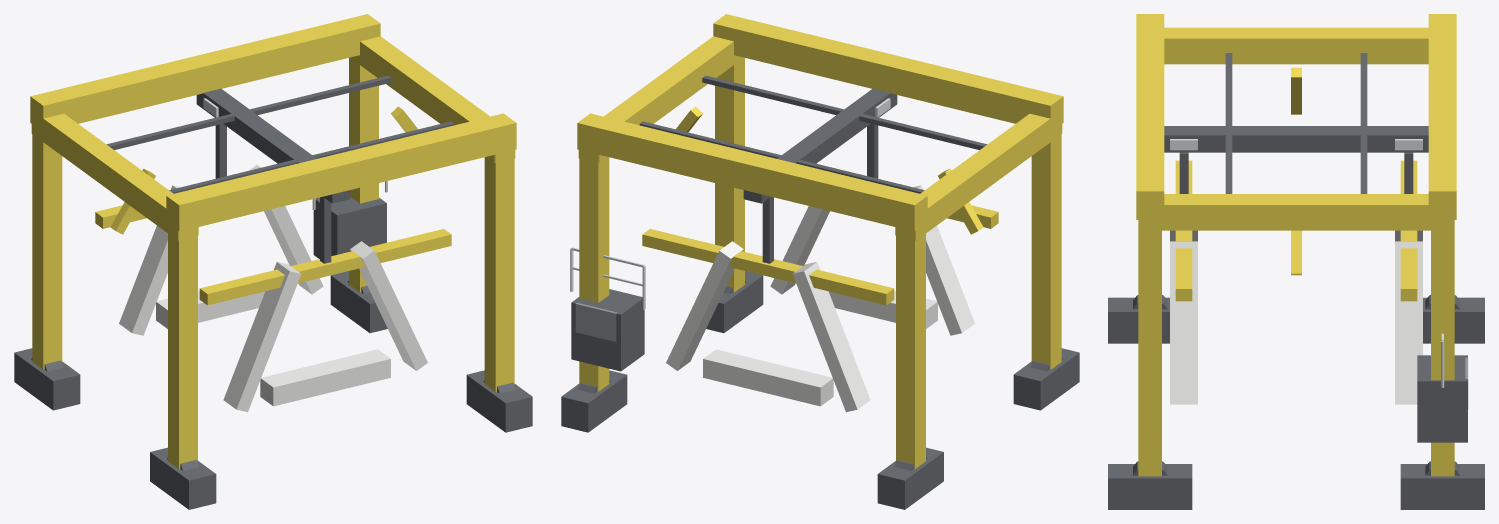
Rendered from PortHoist.glb.
3 renders of one model, left to right at view 1: azimuth 30°, elevation 25°; view 2: azimuth 150°, elevation 25°; view 3: azimuth 270°, elevation 25°, orthographic. The views are drawn at different scales.
Visible parts, largest first — view 1: marina-and-yacht-club-boat-hoist, hoist-cradleyellow_1, hoist-cradlegel_5, hoist-cradlegel_2, hoist-beamcharcoal, hoist-cradlegel_3, hoist-cradlegel, hoist-cradlegel_1, hoist-cradlegel_4, hoist-cradlecharcoal_1, hoist-cradlecharcoal; view 2: marina-and-yacht-club-boat-hoist, hoist-cradleyellow, hoist-cradlegel_4, hoist-cradlegel, hoist-beamcharcoal, hoist-cradlegel_1, hoist-cradlegel_2, hoist-cradlegel_3, hoist-cradlegel_5, hoist-cradlecharcoal, hoist-cradlecharcoal_1; view 3: marina-and-yacht-club-boat-hoist, hoist-beamcharcoal, hoist-cradlegel_3, hoist-cradlegel_1, hoist-cradleyellow, hoist-cradleyellow_1.
Boxes of the visible parts, box(x1,y1,x2,y2) form: marina-and-yacht-club-boat-hoist: box(14, 14, 532, 509); hoist-cradleyellow_1: box(199, 229, 451, 305); hoist-cradlegel_5: box(260, 349, 390, 406); hoist-cradlegel_2: box(223, 262, 301, 412); hoist-beamcharcoal: box(196, 88, 350, 203); hoist-cradlegel_3: box(350, 241, 427, 370); hoist-cradlegel: box(119, 185, 180, 335); hoist-cradlegel_1: box(249, 165, 323, 294); hoist-cradlegel_4: box(156, 291, 265, 328); hoist-cradlecharcoal_1: box(320, 196, 331, 263); hoist-cradlecharcoal: box(215, 123, 226, 178); marina-and-yacht-club-boat-hoist: box(561, 14, 1079, 509); hoist-cradleyellow: box(642, 229, 894, 305); hoist-cradlegel_4: box(703, 349, 833, 406); hoist-cradlegel: box(792, 262, 870, 412); hoist-beamcharcoal: box(743, 88, 897, 203); hoist-cradlegel_1: box(666, 241, 743, 370); hoist-cradlegel_2: box(913, 185, 974, 335); hoist-cradlegel_3: box(770, 165, 844, 294); hoist-cradlegel_5: box(828, 291, 937, 328); hoist-cradlecharcoal: box(762, 196, 773, 263); hoist-cradlecharcoal_1: box(867, 123, 878, 178); marina-and-yacht-club-boat-hoist: box(1108, 14, 1484, 509); hoist-beamcharcoal: box(1164, 126, 1428, 152); hoist-cradlegel_3: box(1170, 241, 1197, 404); hoist-cradlegel_1: box(1395, 241, 1422, 404); hoist-cradleyellow: box(1400, 160, 1417, 301); hoist-cradleyellow_1: box(1175, 160, 1192, 301).
Bounding box in the file's own units: 5 × 3.97 × 4.28.
